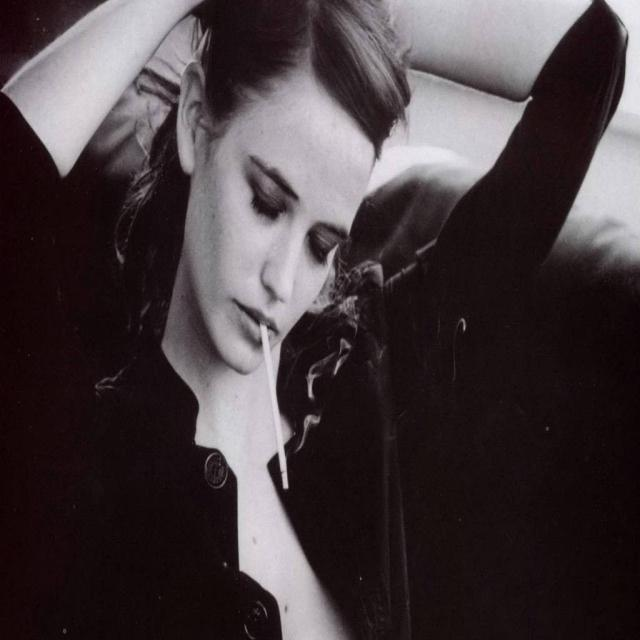smoking: (165, 28, 384, 504)
